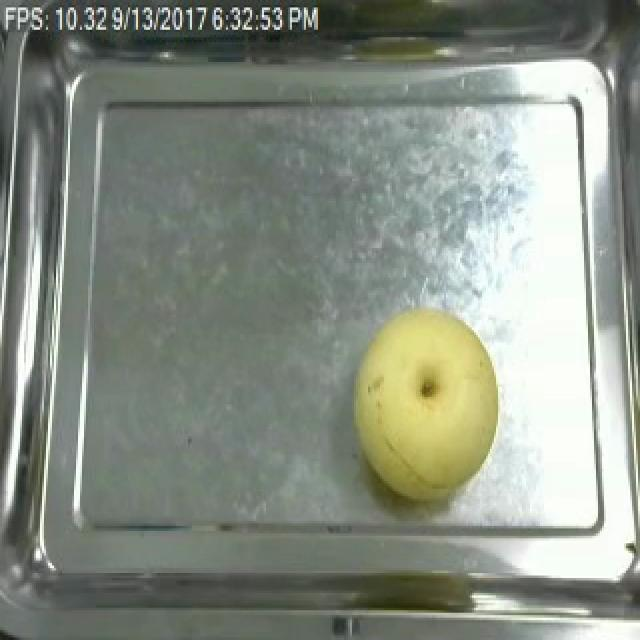Fruit: (342, 297, 510, 503)
